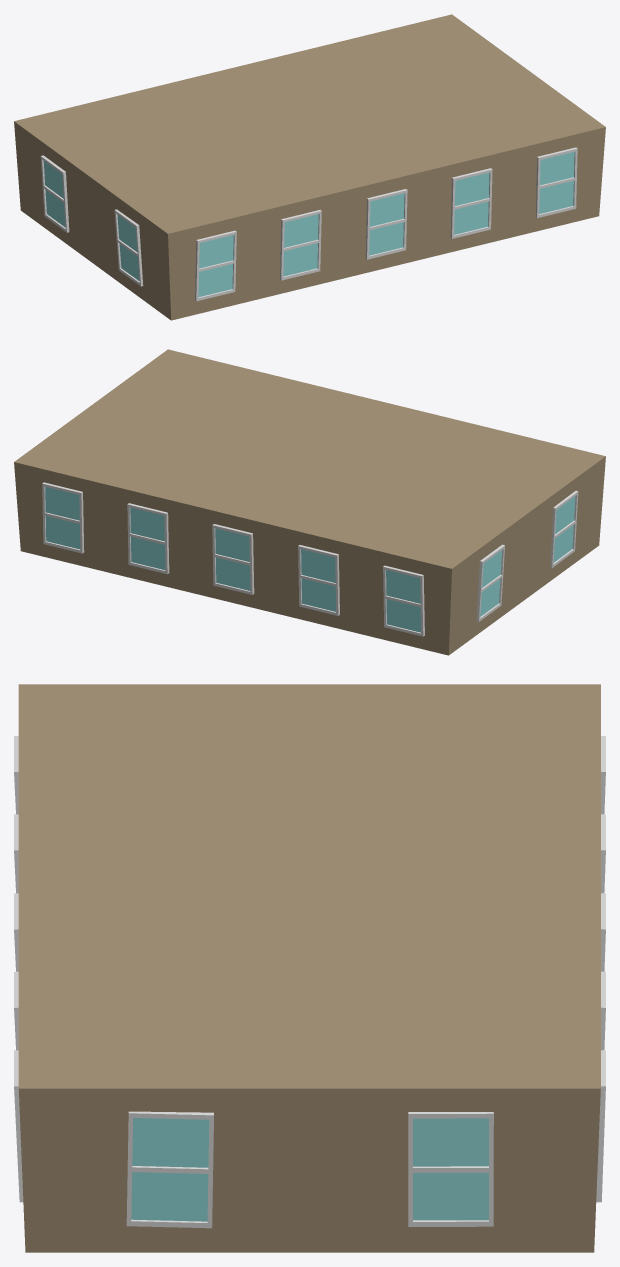
The model's file is Building11mid.fbx.
3 renders of one model, top to bottom at view 1: azimuth 30°, elevation 25°; view 2: azimuth 150°, elevation 25°; view 3: azimuth 270°, elevation 25°, orthographic. The views are drawn at different scales.
Visible parts, largest first — view 1: polySurface66; view 2: polySurface66; view 3: polySurface66.
Boxes of the visible parts, x1=… form: polySurface66: x1=14, y1=14, x2=605, y2=320; polySurface66: x1=14, y1=349, x2=605, y2=655; polySurface66: x1=14, y1=684, x2=605, y2=1252.
Bounding box in the file's own units: 7.79 × 1.5 × 4.78.
